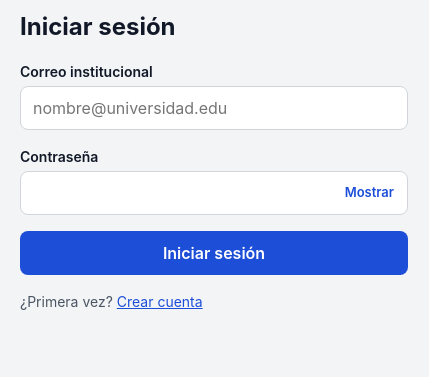
LoginPage (AUTH-16 · CA-1, CA-2, UAT-01) › [AUTH-16] con campos vacíos muestra los mensajes y enfoca el correo
What coordinates should you click on to do the following:
click the button "Iniciar sesión"
I would click on:
 (214, 253)
Its box is [20, 231, 408, 275].
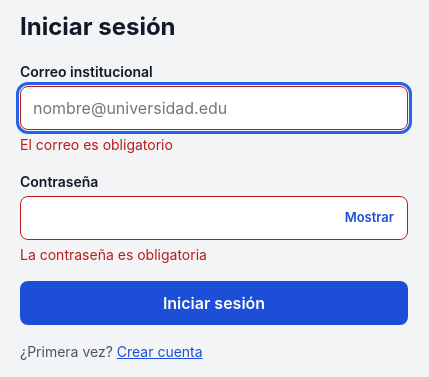
Expected: the text "El correo es obligatorio" is shown, [20, 136, 173, 153]
Expected: the text "La contraseña es obligatoria" is shown, [20, 246, 207, 263]
